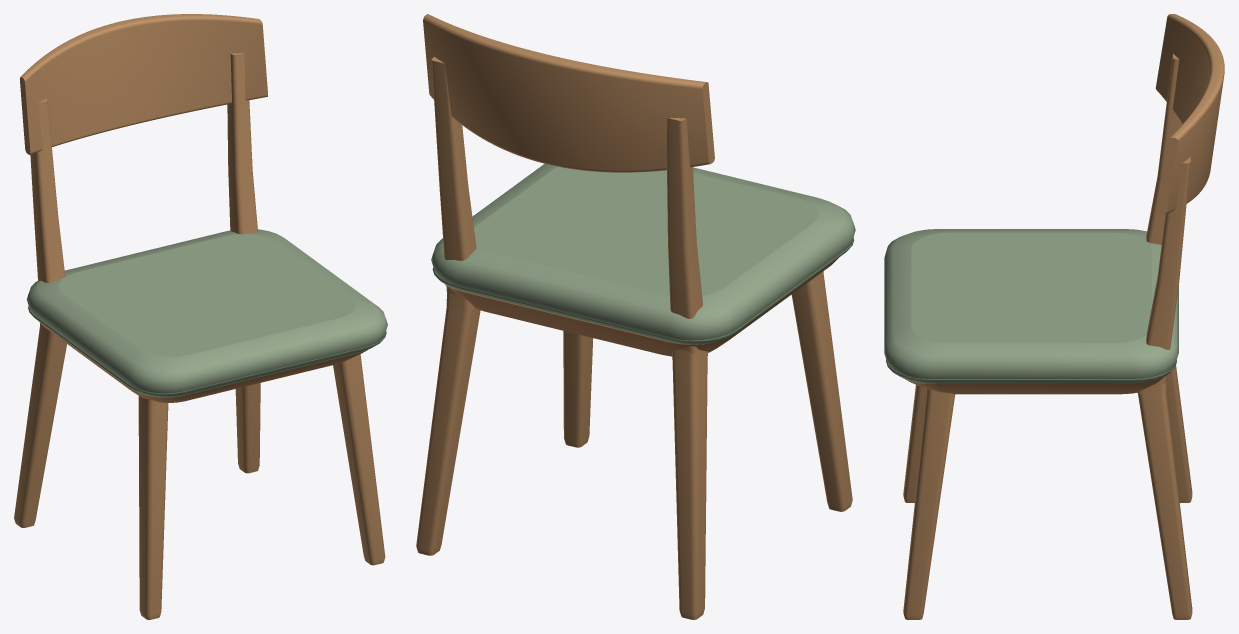
3 views of the same model, side by side, from view 1: azimuth 30°, elevation 25°; view 2: azimuth 150°, elevation 25°; view 3: azimuth 270°, elevation 25° (orthographic). The views are drawn at different scales.
Parts seen in each view (by area): view 1: Sage seat cushion.001, Steam-bent oak backrest.001, Left front leg.001, Right front leg.001, Left rear leg.001, Right back upright.001, Left back upright.001, Right rear leg.001, Laminated oak seat shell.001, Seat perimeter welt.001; view 2: Sage seat cushion.001, Steam-bent oak backrest.001, Left rear leg.001, Right rear leg.001, Left front leg.001, Left back upright.001, Right back upright.001, Laminated oak seat shell.001, Right front leg.001, Seat perimeter welt.001; view 3: Sage seat cushion.001, Steam-bent oak backrest.001, Right rear leg.001, Right front leg.001, Right back upright.001, Laminated oak seat shell.001, Left rear leg.001, Left back upright.001, Left front leg.001, Seat perimeter welt.001.
Part boxes in pixels (x1,y1,x2,y2): Sage seat cushion.001: (26, 229, 387, 397); Steam-bent oak backrest.001: (20, 14, 267, 154); Left front leg.001: (138, 396, 168, 619); Right front leg.001: (333, 354, 385, 565); Left rear leg.001: (14, 323, 66, 527); Right back upright.001: (227, 53, 257, 234); Left back upright.001: (30, 98, 65, 282); Right rear leg.001: (235, 383, 260, 473); Laminated oak seat shell.001: (39, 322, 366, 402); Seat perimeter welt.001: (28, 306, 386, 394); Sage seat cushion.001: (431, 164, 855, 344); Steam-bent oak backrest.001: (423, 14, 714, 172); Left rear leg.001: (672, 348, 707, 619); Right rear leg.001: (416, 293, 480, 555); Left front leg.001: (791, 271, 852, 511); Left back upright.001: (667, 118, 707, 355); Right back upright.001: (431, 57, 476, 309); Laminated oak seat shell.001: (445, 258, 838, 356); Right front leg.001: (563, 331, 593, 447); Seat perimeter welt.001: (432, 238, 854, 341); Sage seat cushion.001: (884, 229, 1178, 384); Steam-bent oak backrest.001: (1155, 14, 1224, 215); Right rear leg.001: (1138, 380, 1192, 619); Right front leg.001: (903, 389, 955, 619); Right back upright.001: (1137, 157, 1190, 394); Laminated oak seat shell.001: (905, 374, 1167, 394); Left rear leg.001: (1166, 366, 1192, 502); Left back upright.001: (1146, 54, 1182, 244); Left front leg.001: (903, 385, 926, 502); Seat perimeter welt.001: (886, 359, 1176, 380).
Size of the model in its own units: 0.48 by 0.83 by 0.52.
